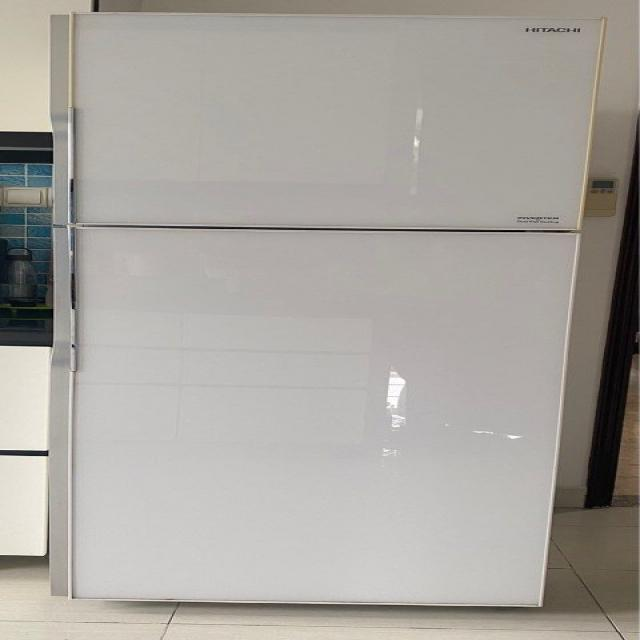refrigerator: (46, 8, 609, 608)
